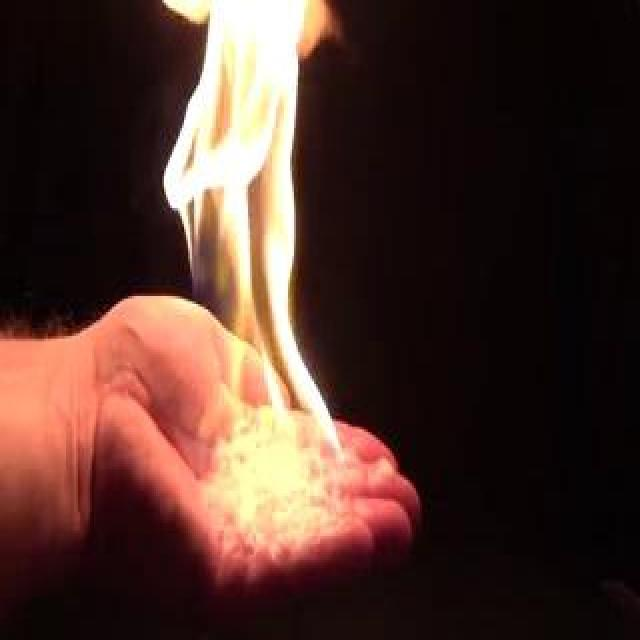Fire: (154, 3, 340, 488)
